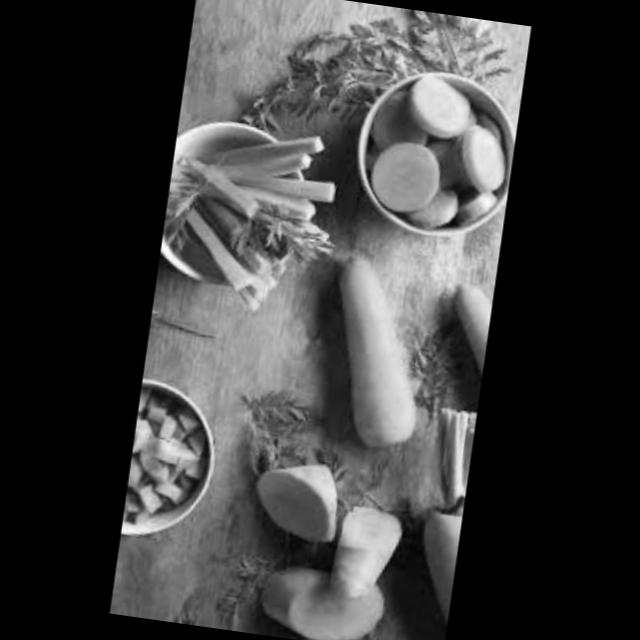ca rot: (158, 112, 336, 300), (314, 254, 445, 456), (384, 77, 515, 216), (123, 384, 210, 528), (240, 443, 354, 552), (324, 486, 416, 606), (245, 565, 390, 640), (409, 503, 464, 627), (438, 276, 496, 368)
